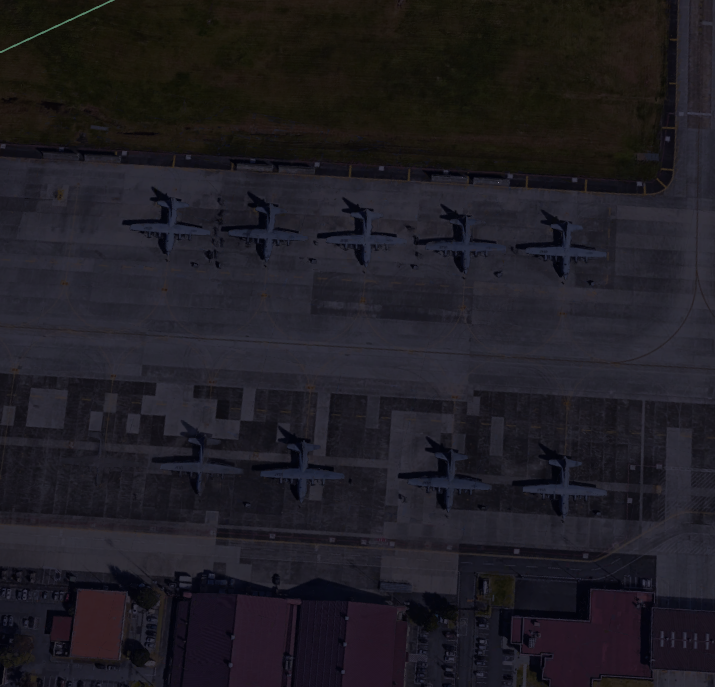A2: (519, 207, 615, 283), (399, 437, 494, 511), (515, 445, 610, 519), (124, 183, 213, 257), (257, 430, 347, 503), (156, 426, 247, 496), (223, 189, 308, 261), (318, 191, 403, 263), (418, 202, 503, 274)
